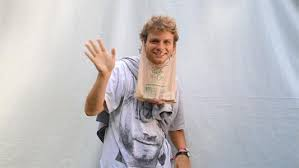hand: (84, 38, 115, 72)
